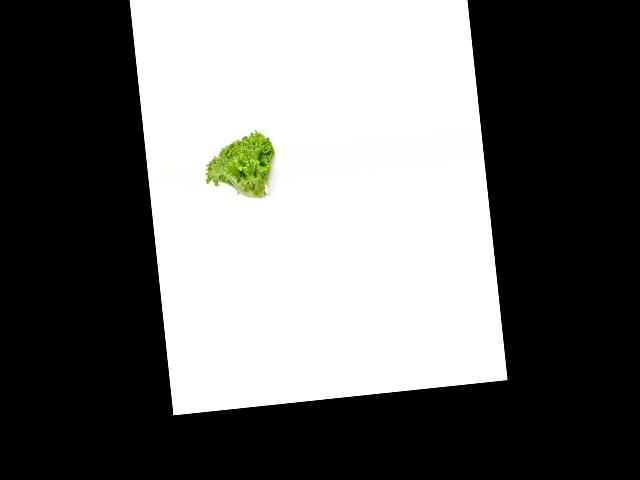lettuce: (198, 124, 279, 208)
